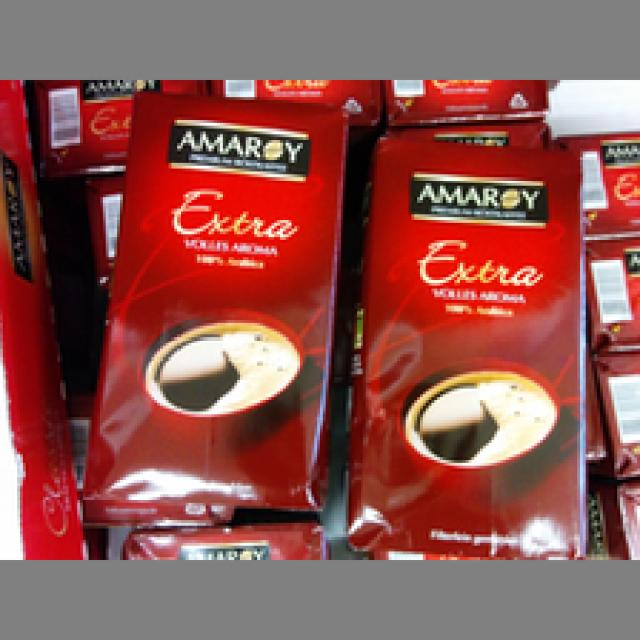groceries: (74, 83, 349, 511), (340, 132, 589, 554)
